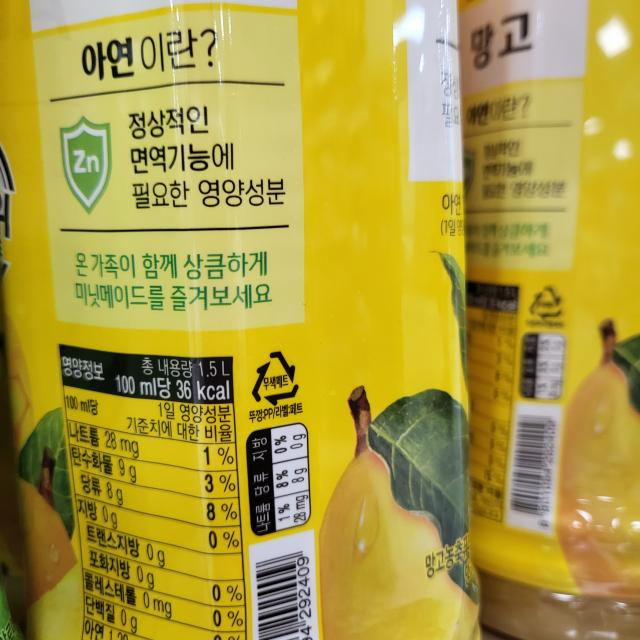ColorlessPET: (247, 346, 302, 408)
